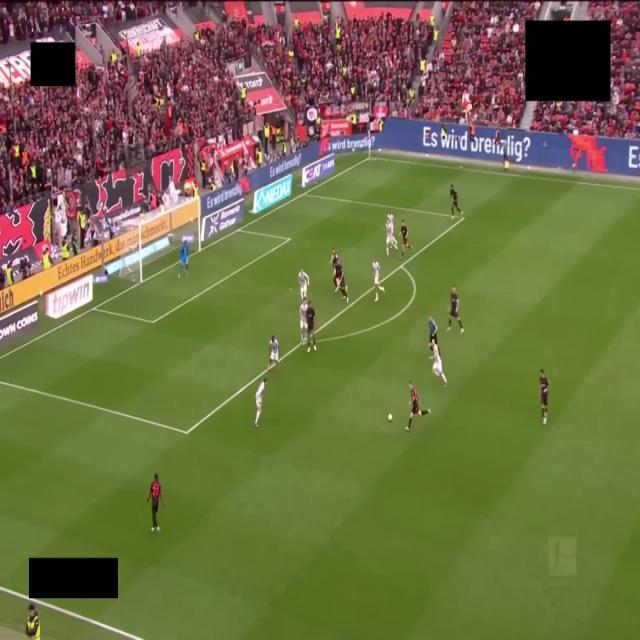ball: (388, 414, 392, 422)
player: (406, 382, 430, 431), (147, 473, 164, 533), (447, 287, 464, 333), (430, 343, 447, 386), (255, 378, 267, 427), (372, 258, 384, 302), (306, 301, 316, 352), (334, 259, 347, 297), (386, 215, 397, 256), (540, 369, 548, 425), (450, 184, 463, 218), (330, 248, 340, 292), (338, 263, 348, 303), (401, 220, 411, 259), (179, 240, 188, 278), (298, 269, 309, 300), (268, 336, 278, 370), (300, 298, 307, 343)
referee: (428, 316, 437, 346)
